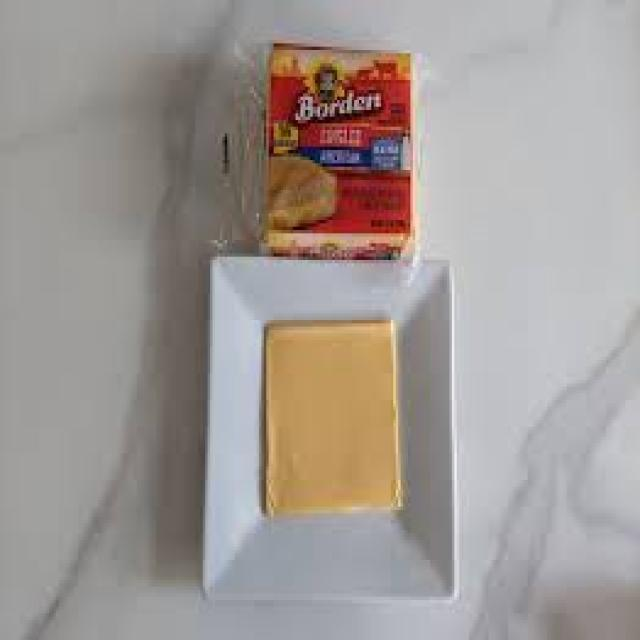cheese: (266, 323, 401, 510)
